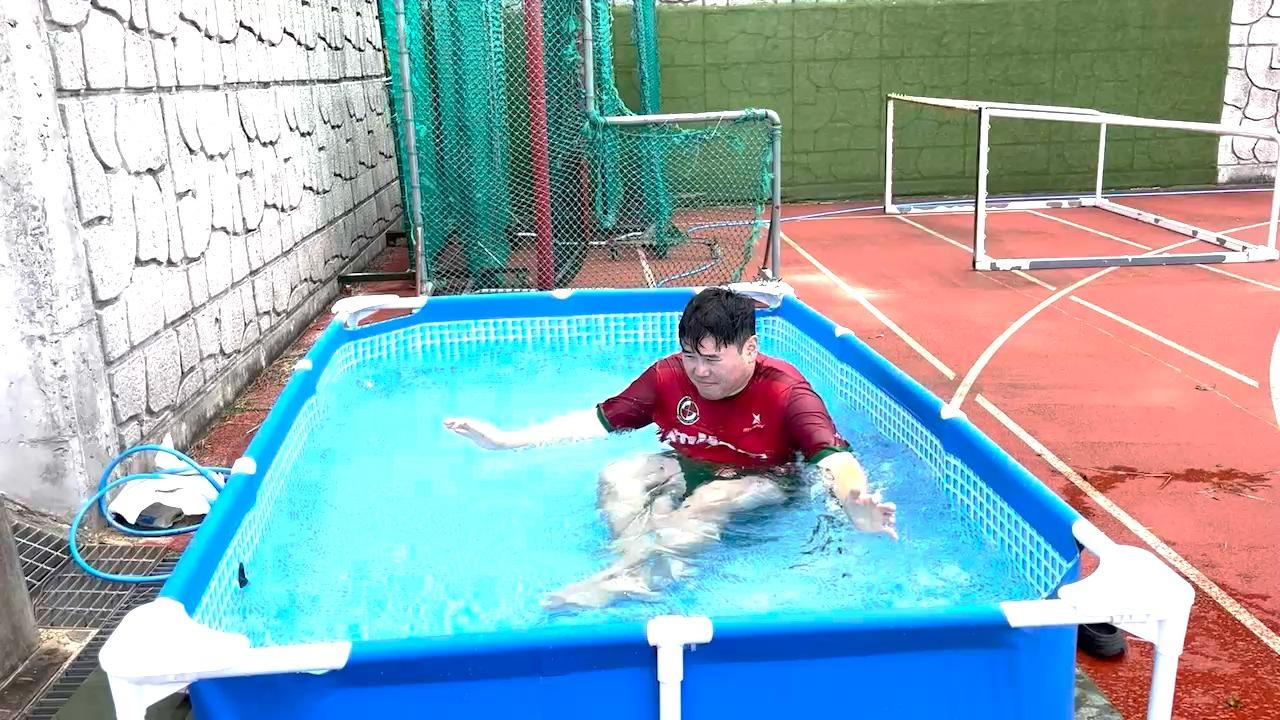Drowning: (451, 271, 880, 565)
